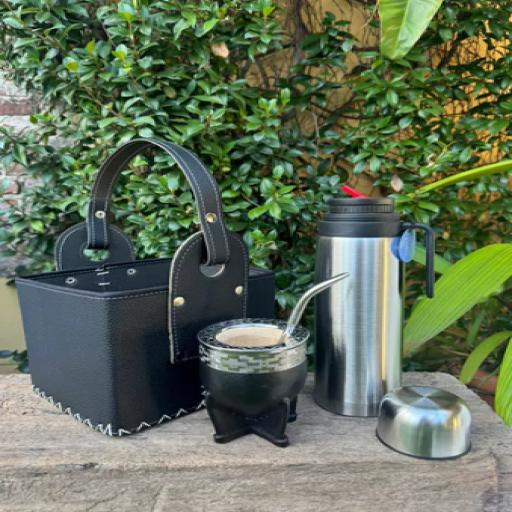mate: (198, 318, 309, 447)
termo: (306, 190, 401, 426)
